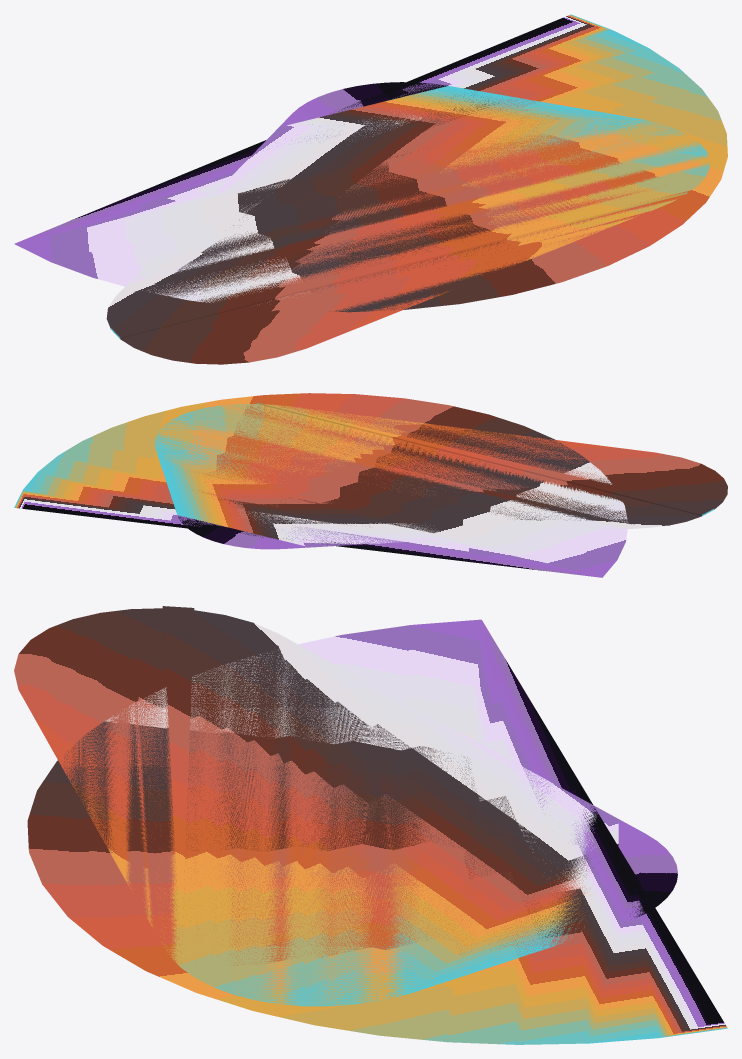
3 renders of one model, top to bottom at view 1: azimuth 30°, elevation 25°; view 2: azimuth 150°, elevation 25°; view 3: azimuth 270°, elevation 25°, orthographic. The views are drawn at different scales.
Parts seen in each view (by area): view 1: shape1, shape2; view 2: shape1, shape2; view 3: shape2, shape1.
Part boxes in pixels (bbox=[...]): shape1: bbox=[14, 14, 727, 312]; shape2: bbox=[106, 82, 709, 364]; shape1: bbox=[14, 393, 627, 577]; shape2: bbox=[155, 402, 727, 549]; shape2: bbox=[14, 606, 677, 1006]; shape1: bbox=[27, 619, 727, 1044].
Bounding box in the file's own units: 0.0554 × 0.000131 × 0.0383.
1 material, 1 textured.
